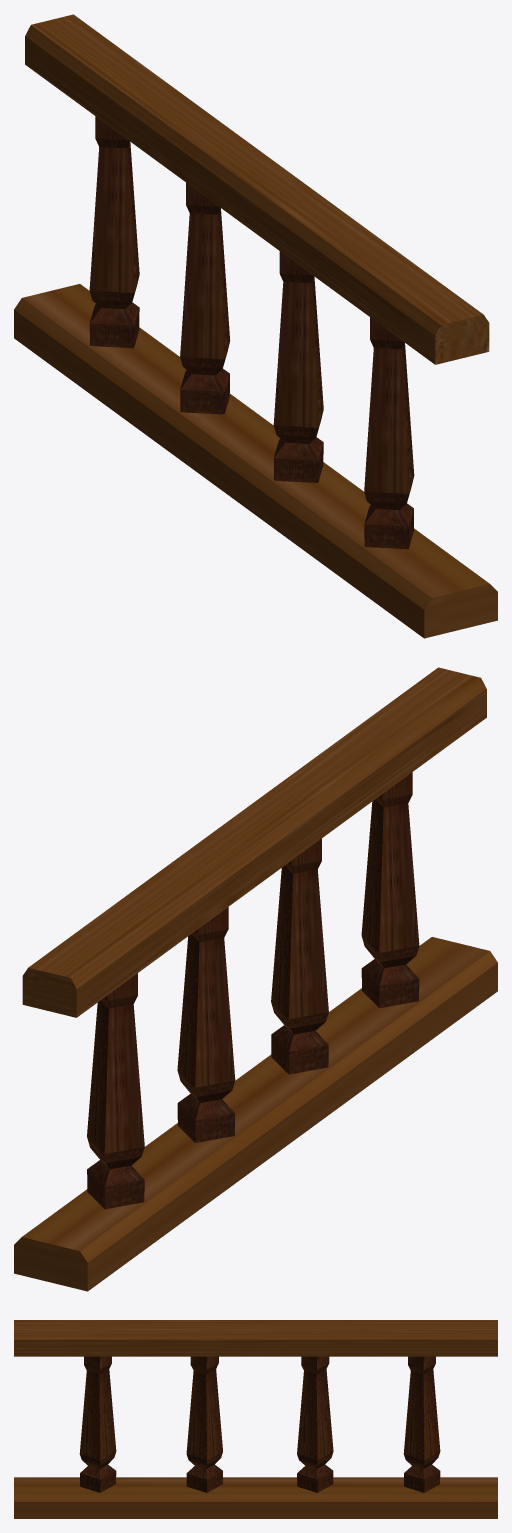
The model's file is PORCH RAILS.fbx.
The picture shows the model from 3 angles, top to bottom: view 1: azimuth 30°, elevation 25°; view 2: azimuth 150°, elevation 25°; view 3: azimuth 270°, elevation 25°; orthographic projection. The views are drawn at different scales.
Visible parts, largest first — view 1: PorchRailLower; view 2: PorchRailLower; view 3: PorchRailLower.
Part boxes in pixels (left/top/right/bottom): PorchRailLower: left=14, top=14, right=497, bottom=638; PorchRailLower: left=14, top=667, right=497, bottom=1291; PorchRailLower: left=14, top=1320, right=497, bottom=1518.
Bounding box in the file's own units: 43.45 × 174 × 418.
